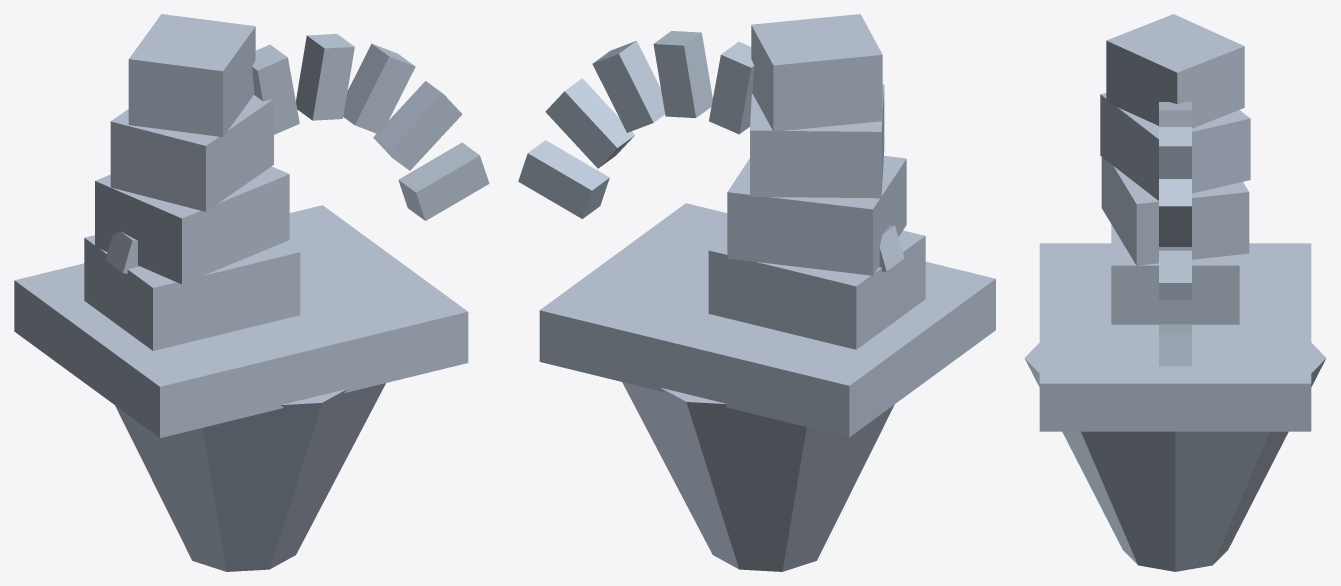
Rendered from sil_w5.glb.
3 renders of one model, left to right at view 1: azimuth 30°, elevation 25°; view 2: azimuth 150°, elevation 25°; view 3: azimuth 270°, elevation 25°, orthographic. The views are drawn at different scales.
Visible parts, largest first — view 1: SilW5; view 2: SilW5; view 3: SilW5.
Boxes of the visible parts, x1,y1,x2,y2 form: SilW5: (14,14,489,571); SilW5: (518,14,995,571); SilW5: (1024,14,1326,571).
Bounding box in the file's own units: 28.08 × 35.35 × 20.
